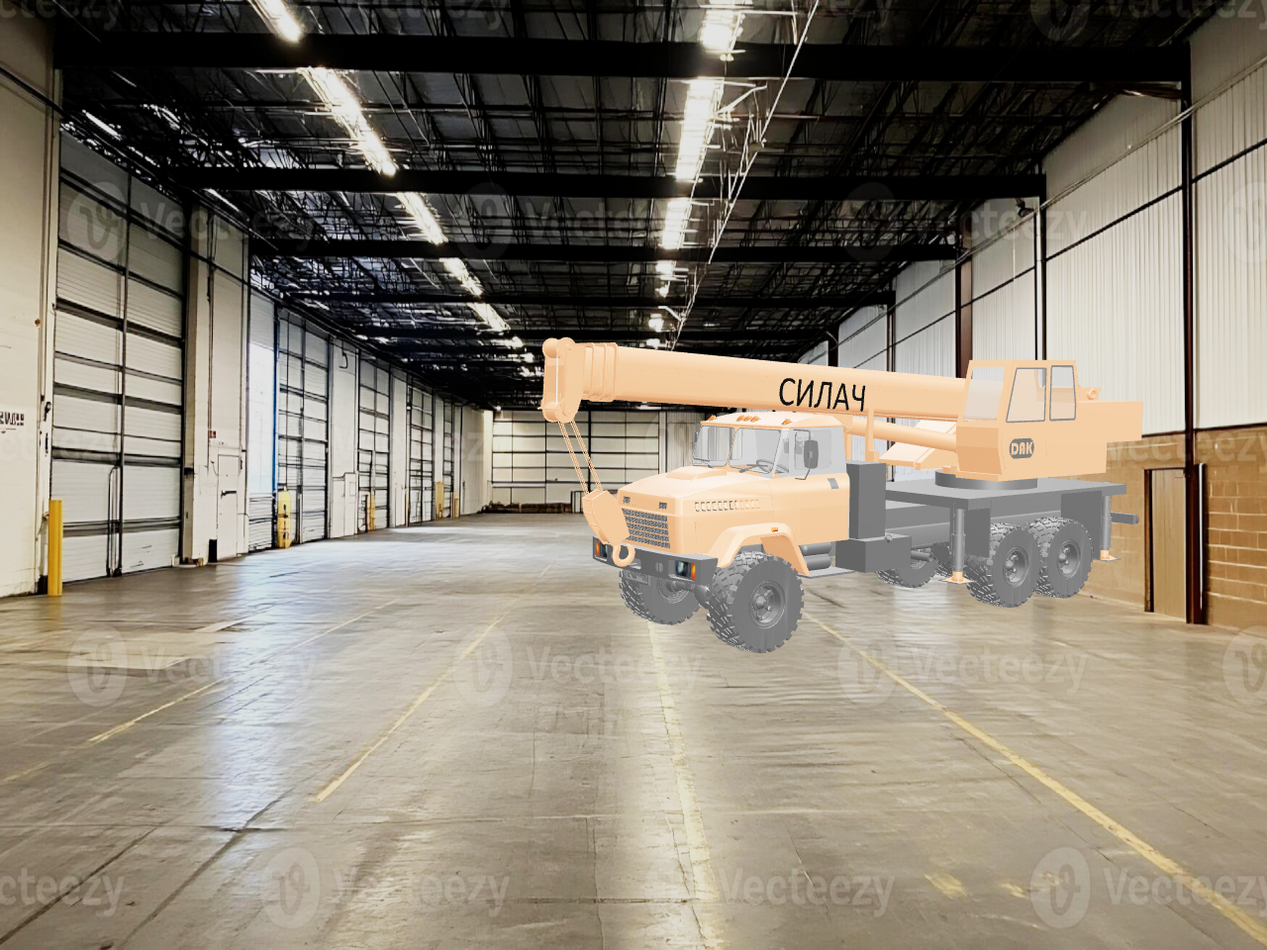Crane: (537, 337, 1143, 653)
